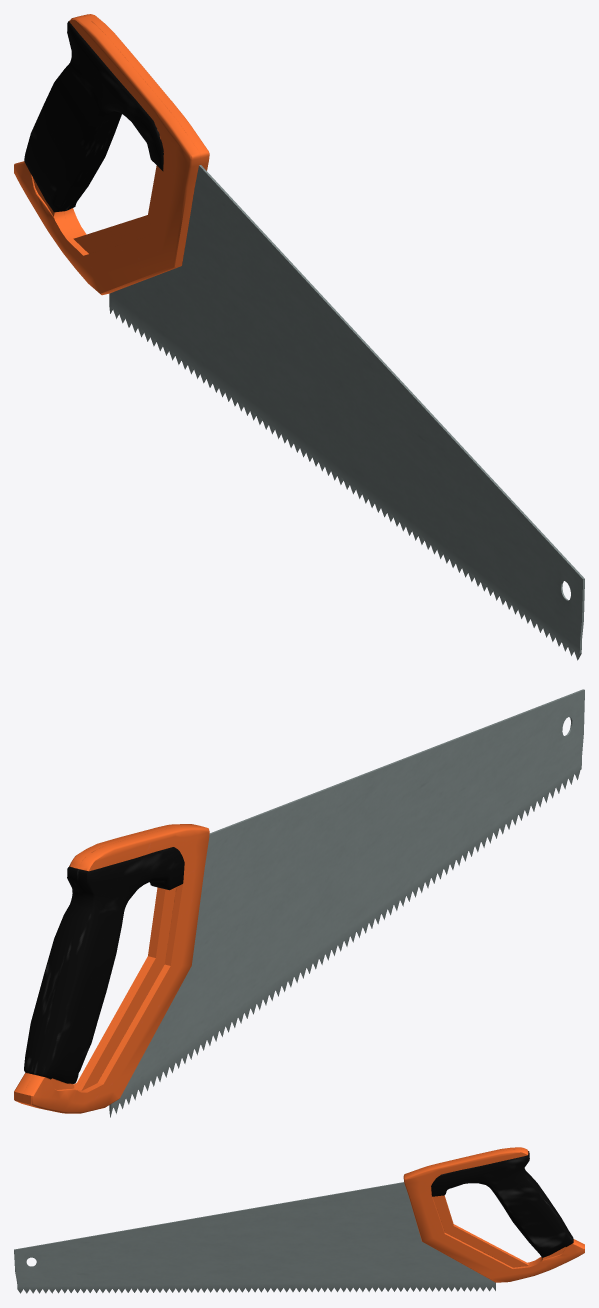
Rendered from Saw.fbx.
3 views of the same model, one above another, from view 1: azimuth 30°, elevation 25°; view 2: azimuth 150°, elevation 25°; view 3: azimuth 270°, elevation 25° (orthographic). The views are drawn at different scales.
Visible parts, largest first — view 1: Saw(Low); view 2: Saw(Low); view 3: Saw(Low).
Boxes of the visible parts, box(x1,y1,x2,y2) form: Saw(Low): box(14, 14, 584, 660); Saw(Low): box(14, 689, 584, 1117); Saw(Low): box(14, 1147, 584, 1293).
Bounding box in the file's own units: 0.0159 × 0.4501 × 0.1258.
1 material, 1 textured.
